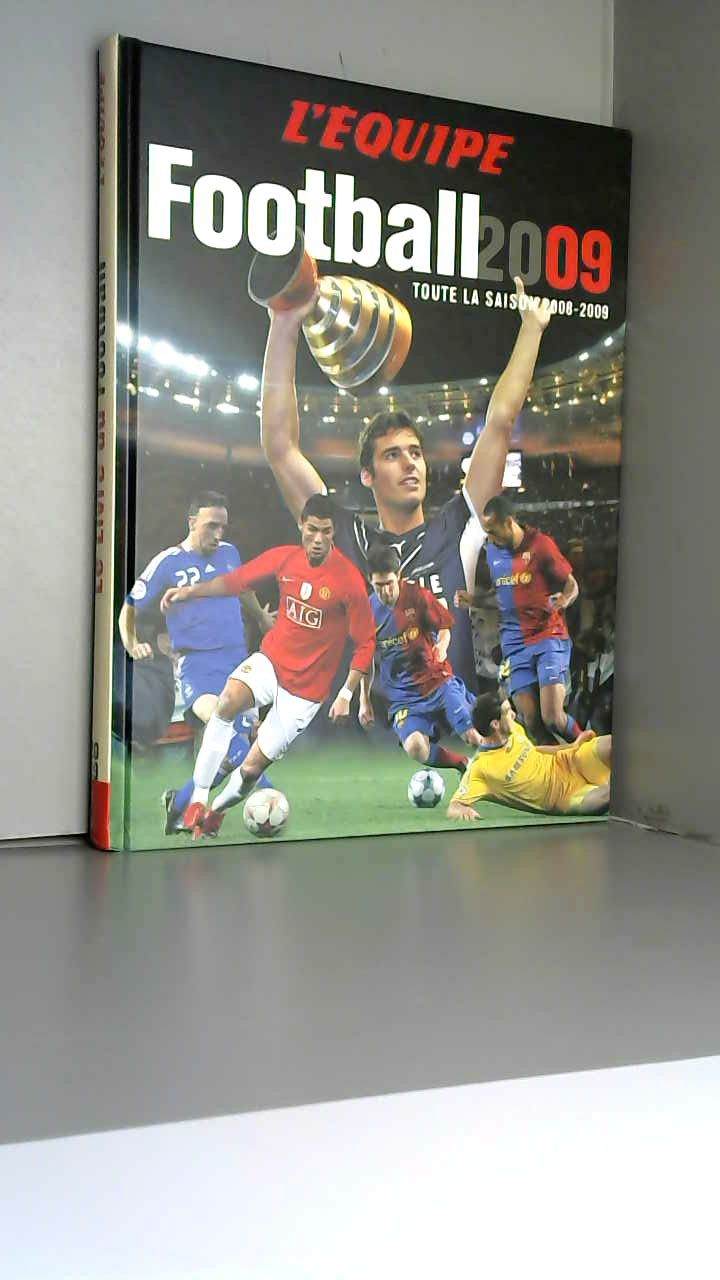book: (60, 10, 720, 868)
